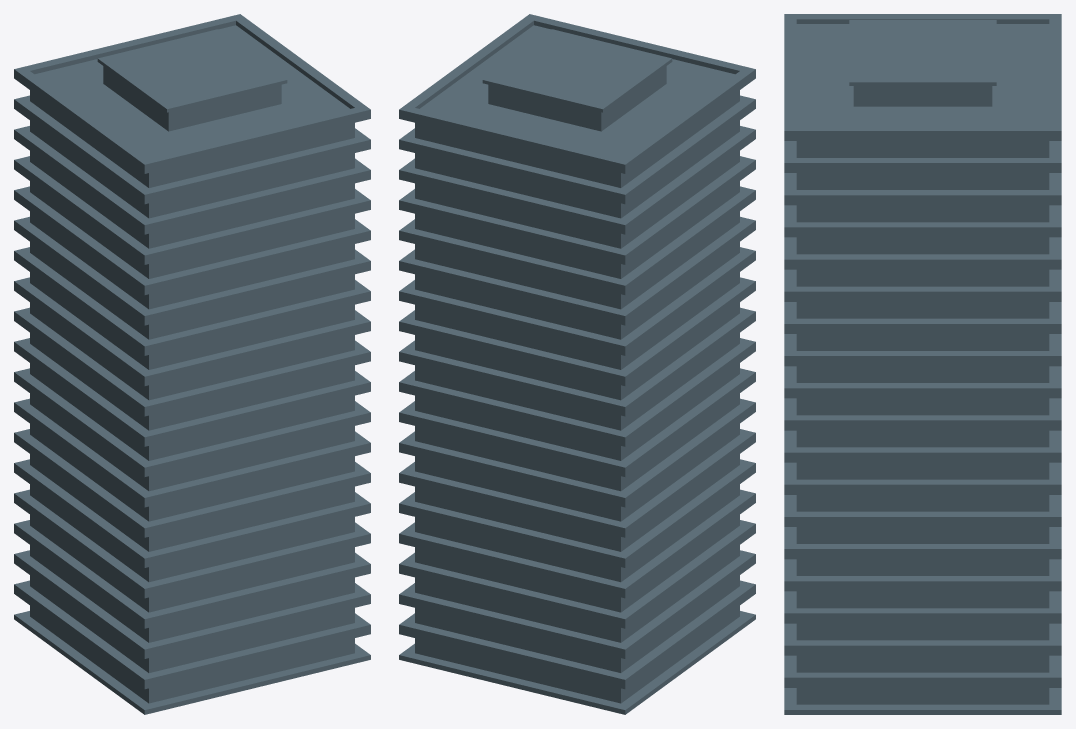
File: bs_tower_c.fbx
3 views of the same model, side by side, from view 1: azimuth 30°, elevation 25°; view 2: azimuth 150°, elevation 25°; view 3: azimuth 270°, elevation 25° (orthographic). The views are drawn at different scales.
Parts seen in each view (by area): view 1: bs_tower_c; view 2: bs_tower_c; view 3: bs_tower_c.
Boxes of the visible parts, x1,y1,x2,y2 form: bs_tower_c: [14, 14, 370, 714]; bs_tower_c: [399, 14, 755, 714]; bs_tower_c: [784, 14, 1061, 714].
Size of the model in its own units: 1826 by 1826 by 4400.
